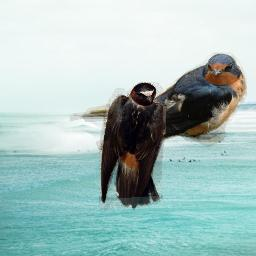Swallow: (70, 52, 247, 150), (99, 82, 166, 210)
